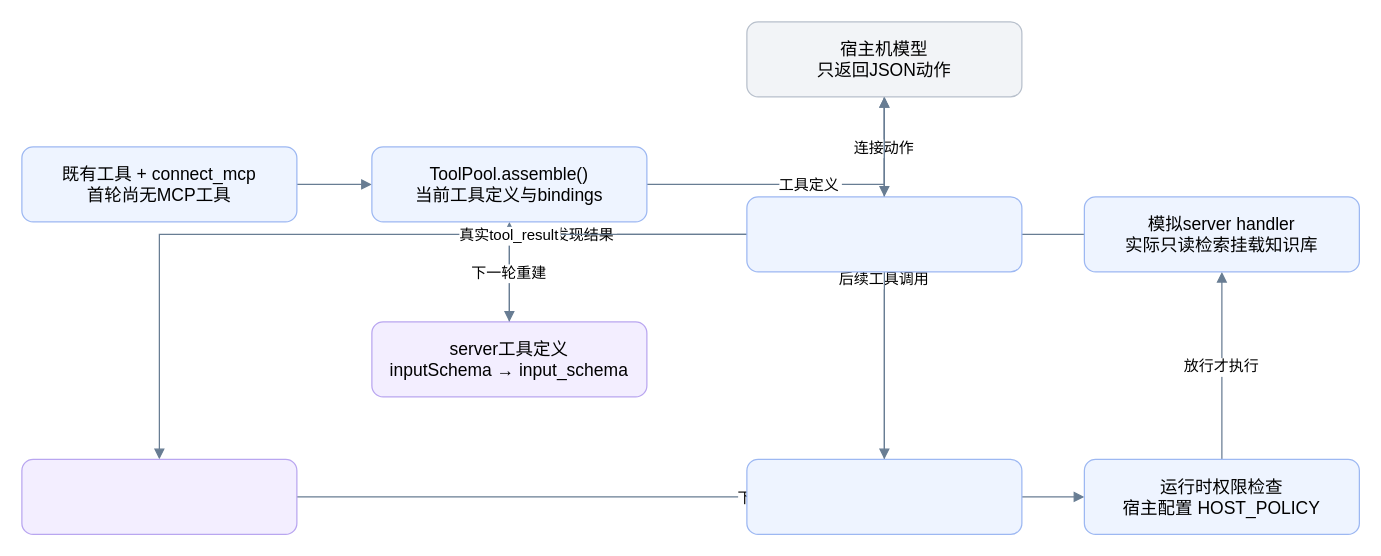
The diagram is 1381 pixels wide and 556 high, and some of its shapes have lost their labels. Each missing label, with the box of its shape:
connect_mcp("docs") 保存模拟server客户端: (746, 196, 1022, 272)
mcp__docs__search 模型提交arguments_json: (746, 458, 1022, 534)
复用e04 agent_loop 结果追加到messages: (21, 458, 297, 534)
